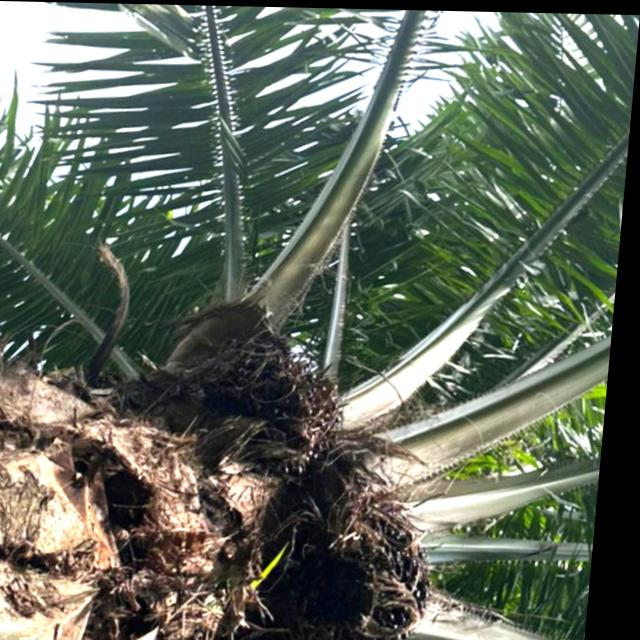ripe: (199, 322, 374, 482)
